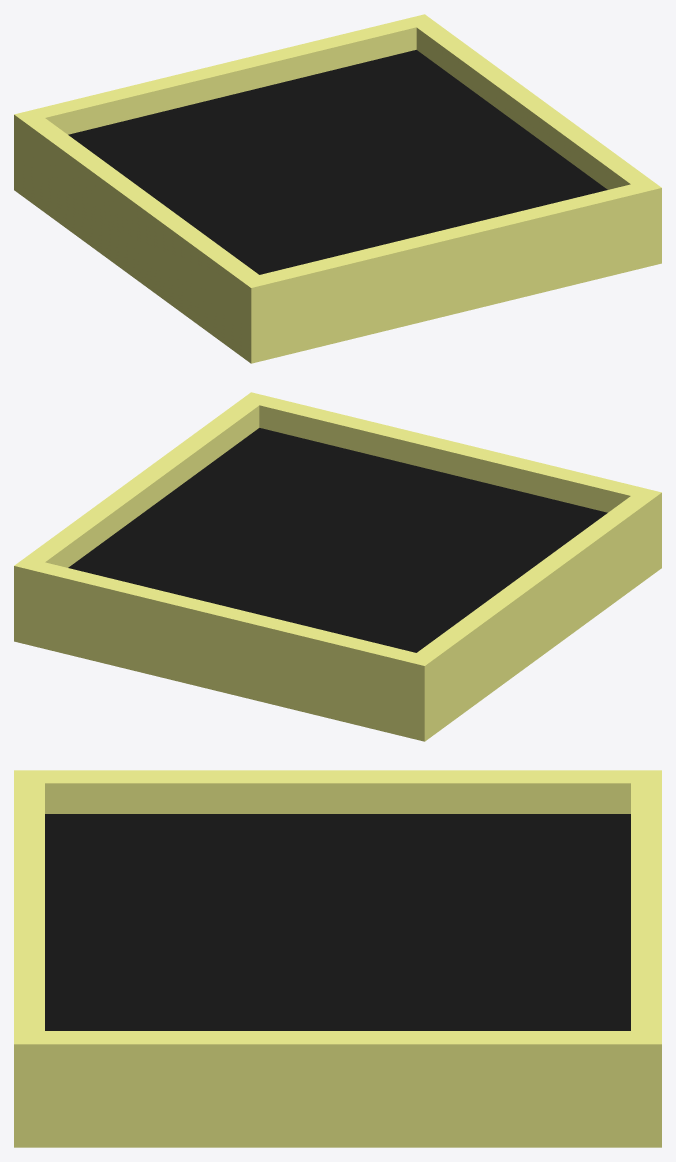
File: Tree Box.FBX
The picture shows the model from 3 angles, top to bottom: view 1: azimuth 30°, elevation 25°; view 2: azimuth 150°, elevation 25°; view 3: azimuth 270°, elevation 25°; orthographic projection. The views are drawn at different scales.
Parts seen in each view (by area): view 1: Box001; view 2: Box001; view 3: Box001.
Part boxes in pixels (<box>): Box001: <box>14,14,661,363</box>; Box001: <box>14,392,661,741</box>; Box001: <box>14,770,661,1147</box>.
Size of the model in its own units: 500 by 88 by 500.
